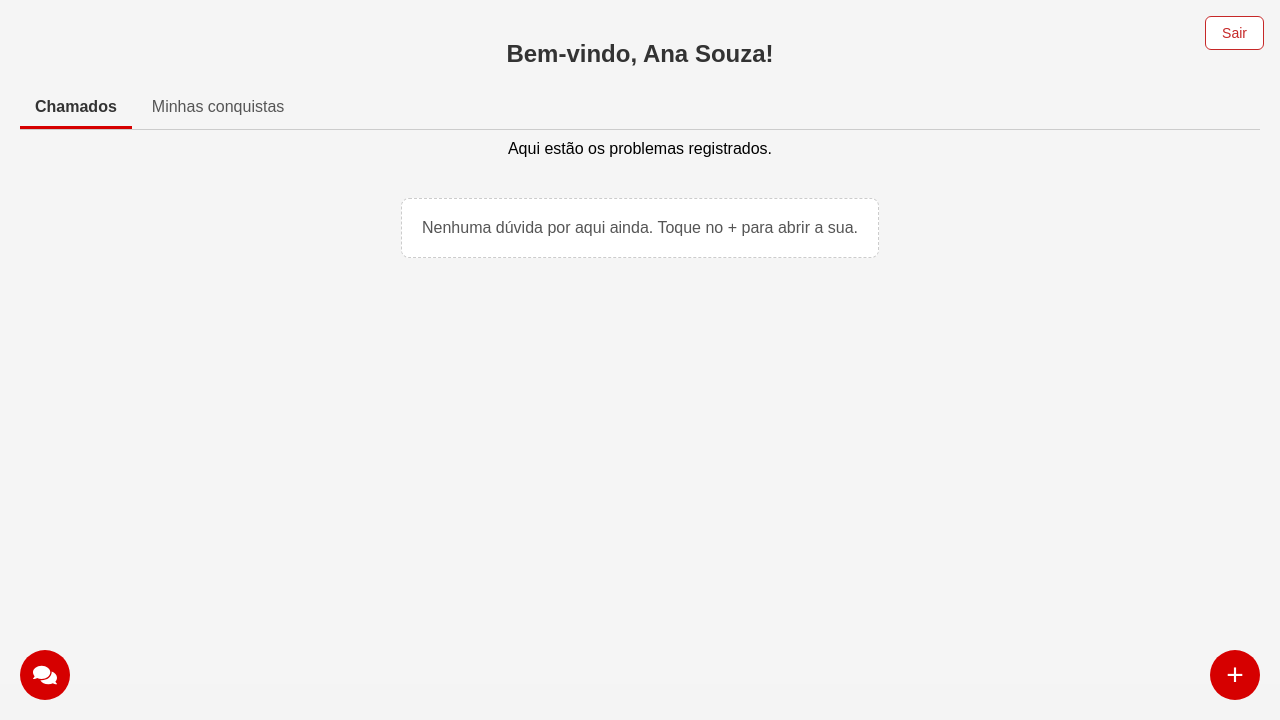
Test: TelaAluno — a vitrine "Minhas conquistas" (AC-PERK-06) › explica a vitrine vazia para quem ainda não foi premiado
This screenshot has width=1280, height=720.
Click the tab "Minhas conquistas": [218, 108] box [137,88,299,129]
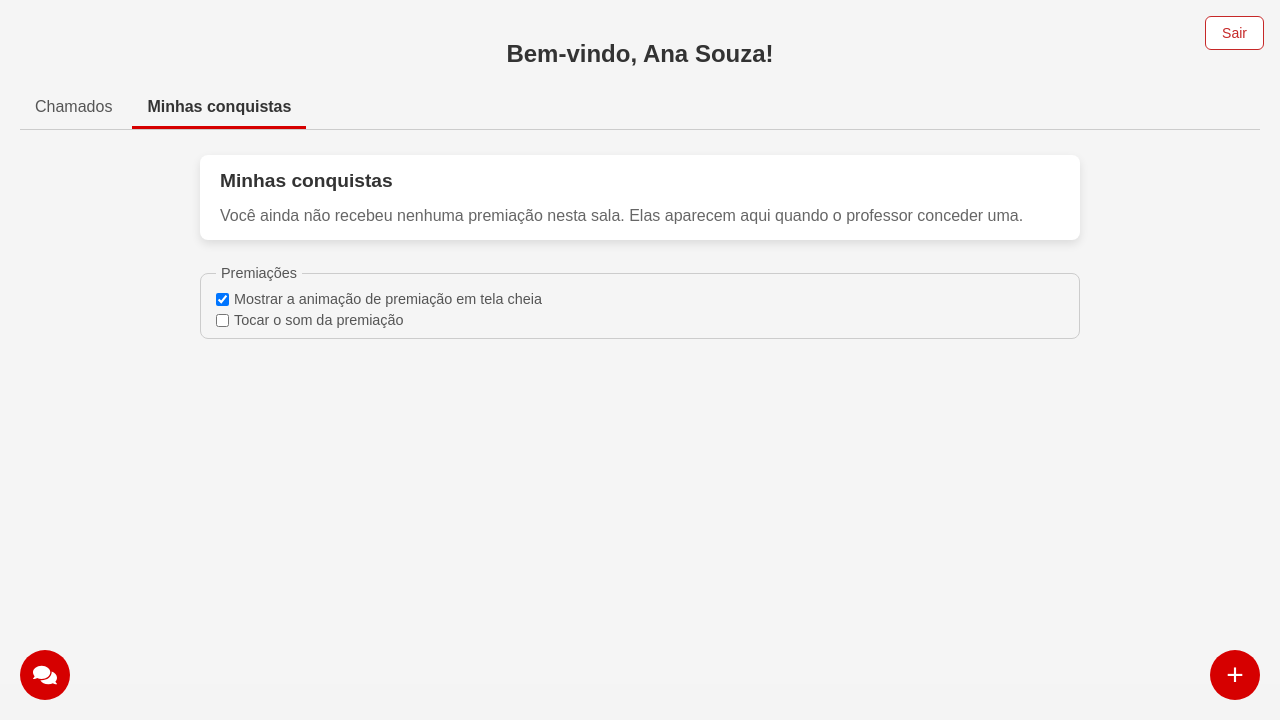
Check: the text "ainda não recebeu" is shown, box [220,207,1023,224]
